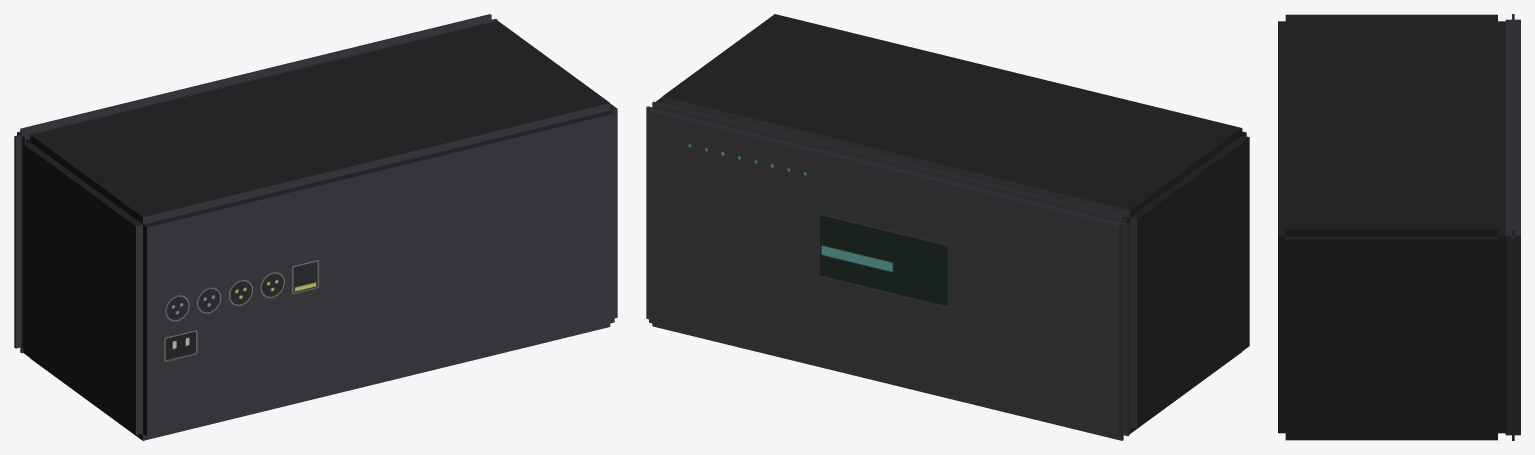
The model's file is allen-heath-dx168.glb.
3 views of the same model, side by side, from view 1: azimuth 30°, elevation 25°; view 2: azimuth 150°, elevation 25°; view 3: azimuth 270°, elevation 25° (orthographic). The views are drawn at different scales.
Parts seen in each view (by area): view 1: allen-heath-dx168-body; view 2: allen-heath-dx168-body; view 3: allen-heath-dx168-body.
Part boxes in pixels (x1,y1,x2,y2): allen-heath-dx168-body: (14, 14, 617, 440); allen-heath-dx168-body: (646, 14, 1249, 440); allen-heath-dx168-body: (1278, 14, 1520, 440).
Size of the model in its own units: 0.41 by 0.185 by 0.19.
Materials: 1 (1 with a texture image).
